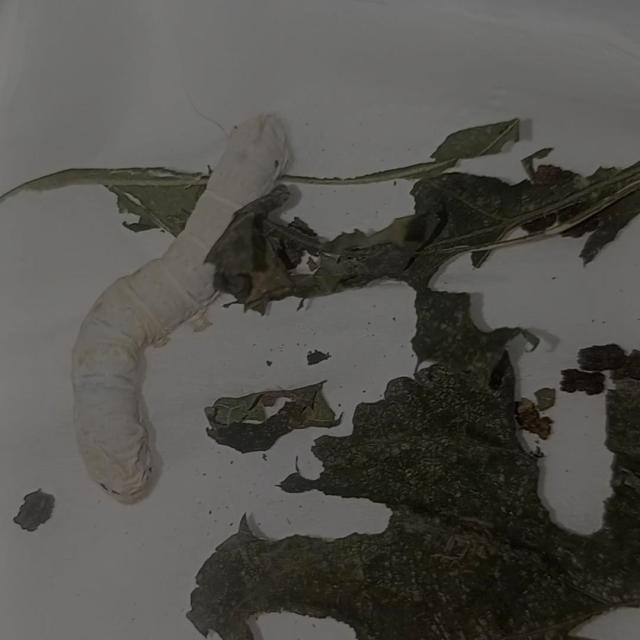Healthy: (51, 82, 320, 534)
